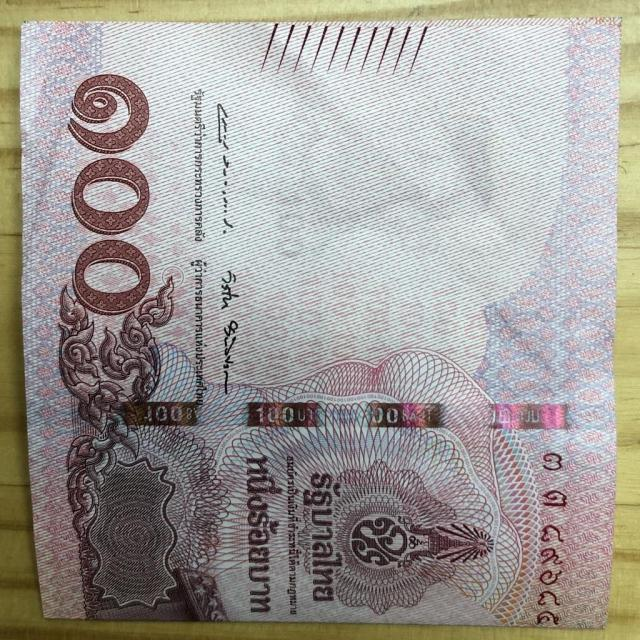THAI100: (17, 18, 623, 632)
